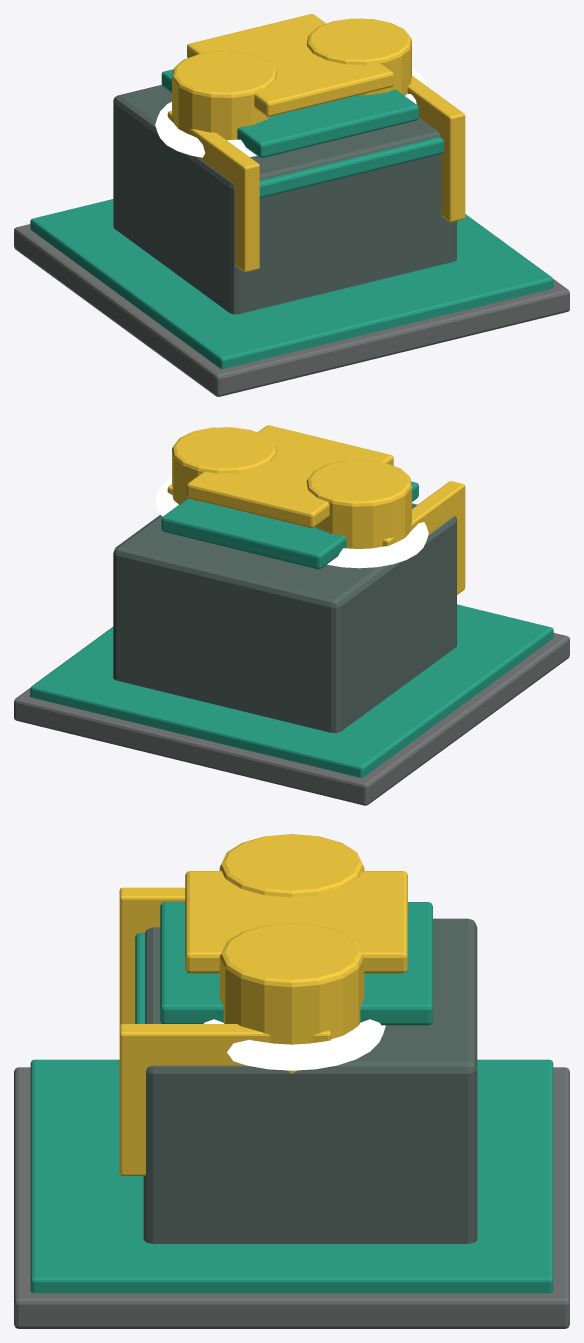
The model's file is SM_Coalition_CO_PowerPlant.fbx.
The picture shows the model from 3 angles, top to bottom: view 1: azimuth 30°, elevation 25°; view 2: azimuth 150°, elevation 25°; view 3: azimuth 270°, elevation 25°; orthographic projection. The views are drawn at different scales.
Visible parts, largest first — view 1: SM_Coalition_CO_PowerPlant_MainMass, SM_Coalition_CO_PowerPlant_FoundationTrim, SM_Coalition_CO_PowerPlant, SM_Coalition_CO_PowerPlant_Roof_2, SM_Coalition_CO_PowerPlant_Reactor_-1, SM_Coalition_CO_PowerPlant_Roof_1, SM_Coalition_CO_PowerPlant_Reactor_+1, SM_Coalition_CO_PowerPlant_Fin_-1, SM_Coalition_CO_PowerPlant_Fin_+1, SM_Coalition_CO_PowerPlant_Roof_0, SM_Coalition_CO_PowerPlant_ReactorRing_-1; view 2: SM_Coalition_CO_PowerPlant_MainMass, SM_Coalition_CO_PowerPlant_FoundationTrim, SM_Coalition_CO_PowerPlant, SM_Coalition_CO_PowerPlant_Roof_2, SM_Coalition_CO_PowerPlant_Reactor_-1, SM_Coalition_CO_PowerPlant_Roof_1, SM_Coalition_CO_PowerPlant_Reactor_+1, SM_Coalition_CO_PowerPlant_Fin_-1, SM_Coalition_CO_PowerPlant_ReactorRing_-1, SM_Coalition_CO_PowerPlant_ReactorRing_+1; view 3: SM_Coalition_CO_PowerPlant_MainMass, SM_Coalition_CO_PowerPlant_FoundationTrim, SM_Coalition_CO_PowerPlant, SM_Coalition_CO_PowerPlant_Reactor_+1, SM_Coalition_CO_PowerPlant_Roof_2, SM_Coalition_CO_PowerPlant_Roof_1, SM_Coalition_CO_PowerPlant_Fin_+1, SM_Coalition_CO_PowerPlant_Reactor_-1, SM_Coalition_CO_PowerPlant_ReactorRing_+1, SM_Coalition_CO_PowerPlant_Fin_-1, SM_Coalition_CO_PowerPlant_Roof_0.
Boxes of the visible parts, x1,y1,x2,y2 form: SM_Coalition_CO_PowerPlant_MainMass: [113, 85, 456, 314]; SM_Coalition_CO_PowerPlant_FoundationTrim: [30, 199, 553, 368]; SM_Coalition_CO_PowerPlant: [14, 224, 569, 396]; SM_Coalition_CO_PowerPlant_Roof_2: [187, 14, 393, 116]; SM_Coalition_CO_PowerPlant_Reactor_-1: [172, 51, 277, 140]; SM_Coalition_CO_PowerPlant_Roof_1: [161, 69, 418, 157]; SM_Coalition_CO_PowerPlant_Reactor_+1: [306, 18, 411, 95]; SM_Coalition_CO_PowerPlant_Fin_-1: [167, 110, 259, 272]; SM_Coalition_CO_PowerPlant_Fin_+1: [407, 75, 465, 222]; SM_Coalition_CO_PowerPlant_Roof_0: [259, 137, 443, 198]; SM_Coalition_CO_PowerPlant_ReactorRing_-1: [155, 101, 256, 157]; SM_Coalition_CO_PowerPlant_MainMass: [113, 504, 456, 733]; SM_Coalition_CO_PowerPlant_FoundationTrim: [30, 604, 553, 777]; SM_Coalition_CO_PowerPlant: [14, 633, 569, 805]; SM_Coalition_CO_PowerPlant_Roof_2: [187, 425, 393, 527]; SM_Coalition_CO_PowerPlant_Reactor_-1: [306, 460, 411, 548]; SM_Coalition_CO_PowerPlant_Roof_1: [161, 481, 418, 569]; SM_Coalition_CO_PowerPlant_Reactor_+1: [172, 427, 277, 504]; SM_Coalition_CO_PowerPlant_Fin_-1: [382, 481, 465, 594]; SM_Coalition_CO_PowerPlant_ReactorRing_-1: [327, 522, 428, 568]; SM_Coalition_CO_PowerPlant_ReactorRing_+1: [155, 477, 178, 516]; SM_Coalition_CO_PowerPlant_MainMass: [143, 918, 477, 1243]; SM_Coalition_CO_PowerPlant_FoundationTrim: [30, 1059, 553, 1293]; SM_Coalition_CO_PowerPlant: [14, 1067, 569, 1328]; SM_Coalition_CO_PowerPlant_Reactor_+1: [219, 923, 364, 1073]; SM_Coalition_CO_PowerPlant_Roof_2: [185, 871, 407, 973]; SM_Coalition_CO_PowerPlant_Roof_1: [160, 902, 432, 1025]; SM_Coalition_CO_PowerPlant_Fin_+1: [119, 1024, 330, 1175]; SM_Coalition_CO_PowerPlant_Reactor_-1: [219, 834, 364, 897]; SM_Coalition_CO_PowerPlant_ReactorRing_+1: [203, 1019, 385, 1070]; SM_Coalition_CO_PowerPlant_Fin_-1: [119, 887, 185, 1025]; SM_Coalition_CO_PowerPlant_Roof_0: [135, 933, 145, 1023].
Size of what is drawn, in the model's own units: 600 by 600 by 364.
